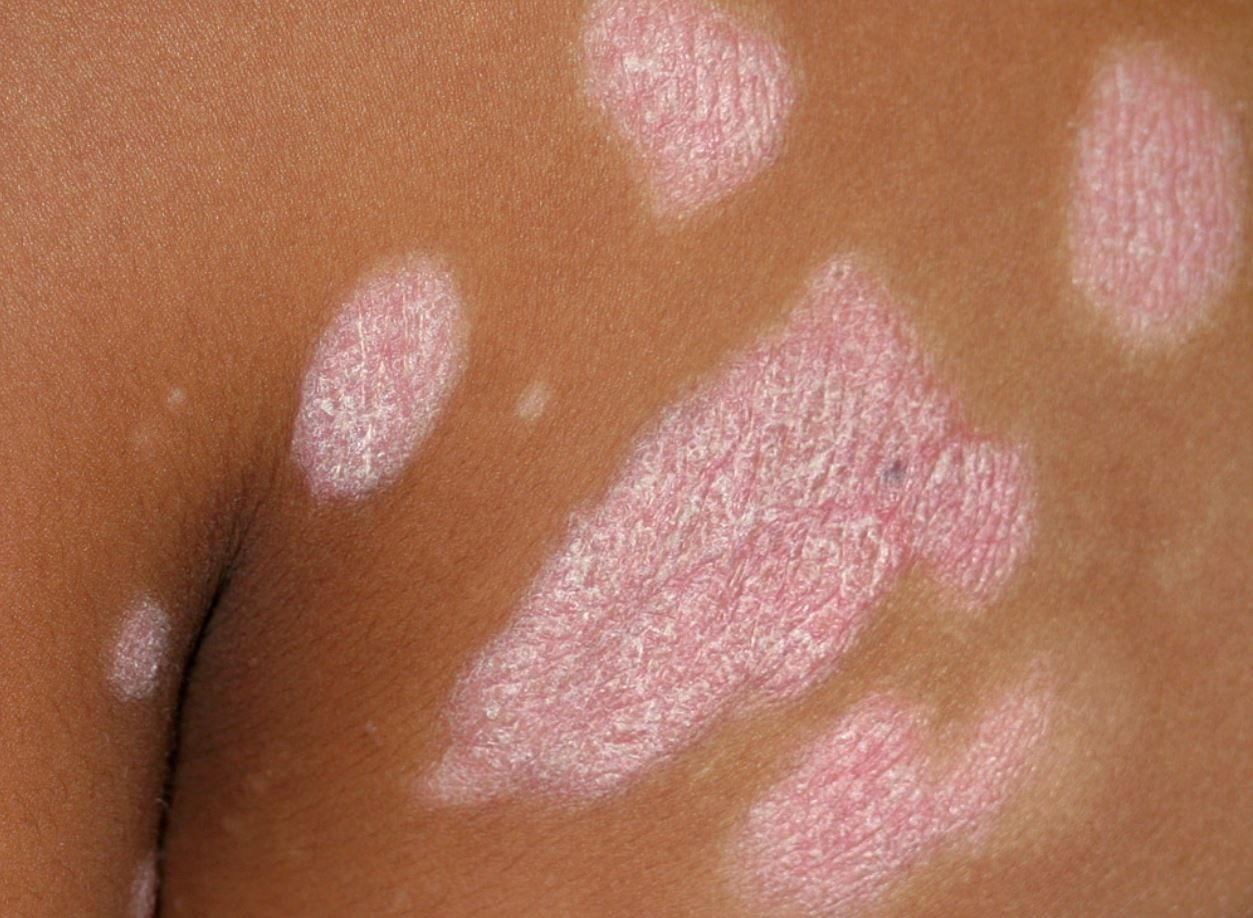Psoriasis: (410, 263, 1052, 795), (1021, 4, 1253, 377), (735, 686, 1077, 918), (272, 207, 491, 513), (549, 0, 811, 227), (101, 591, 171, 720)
